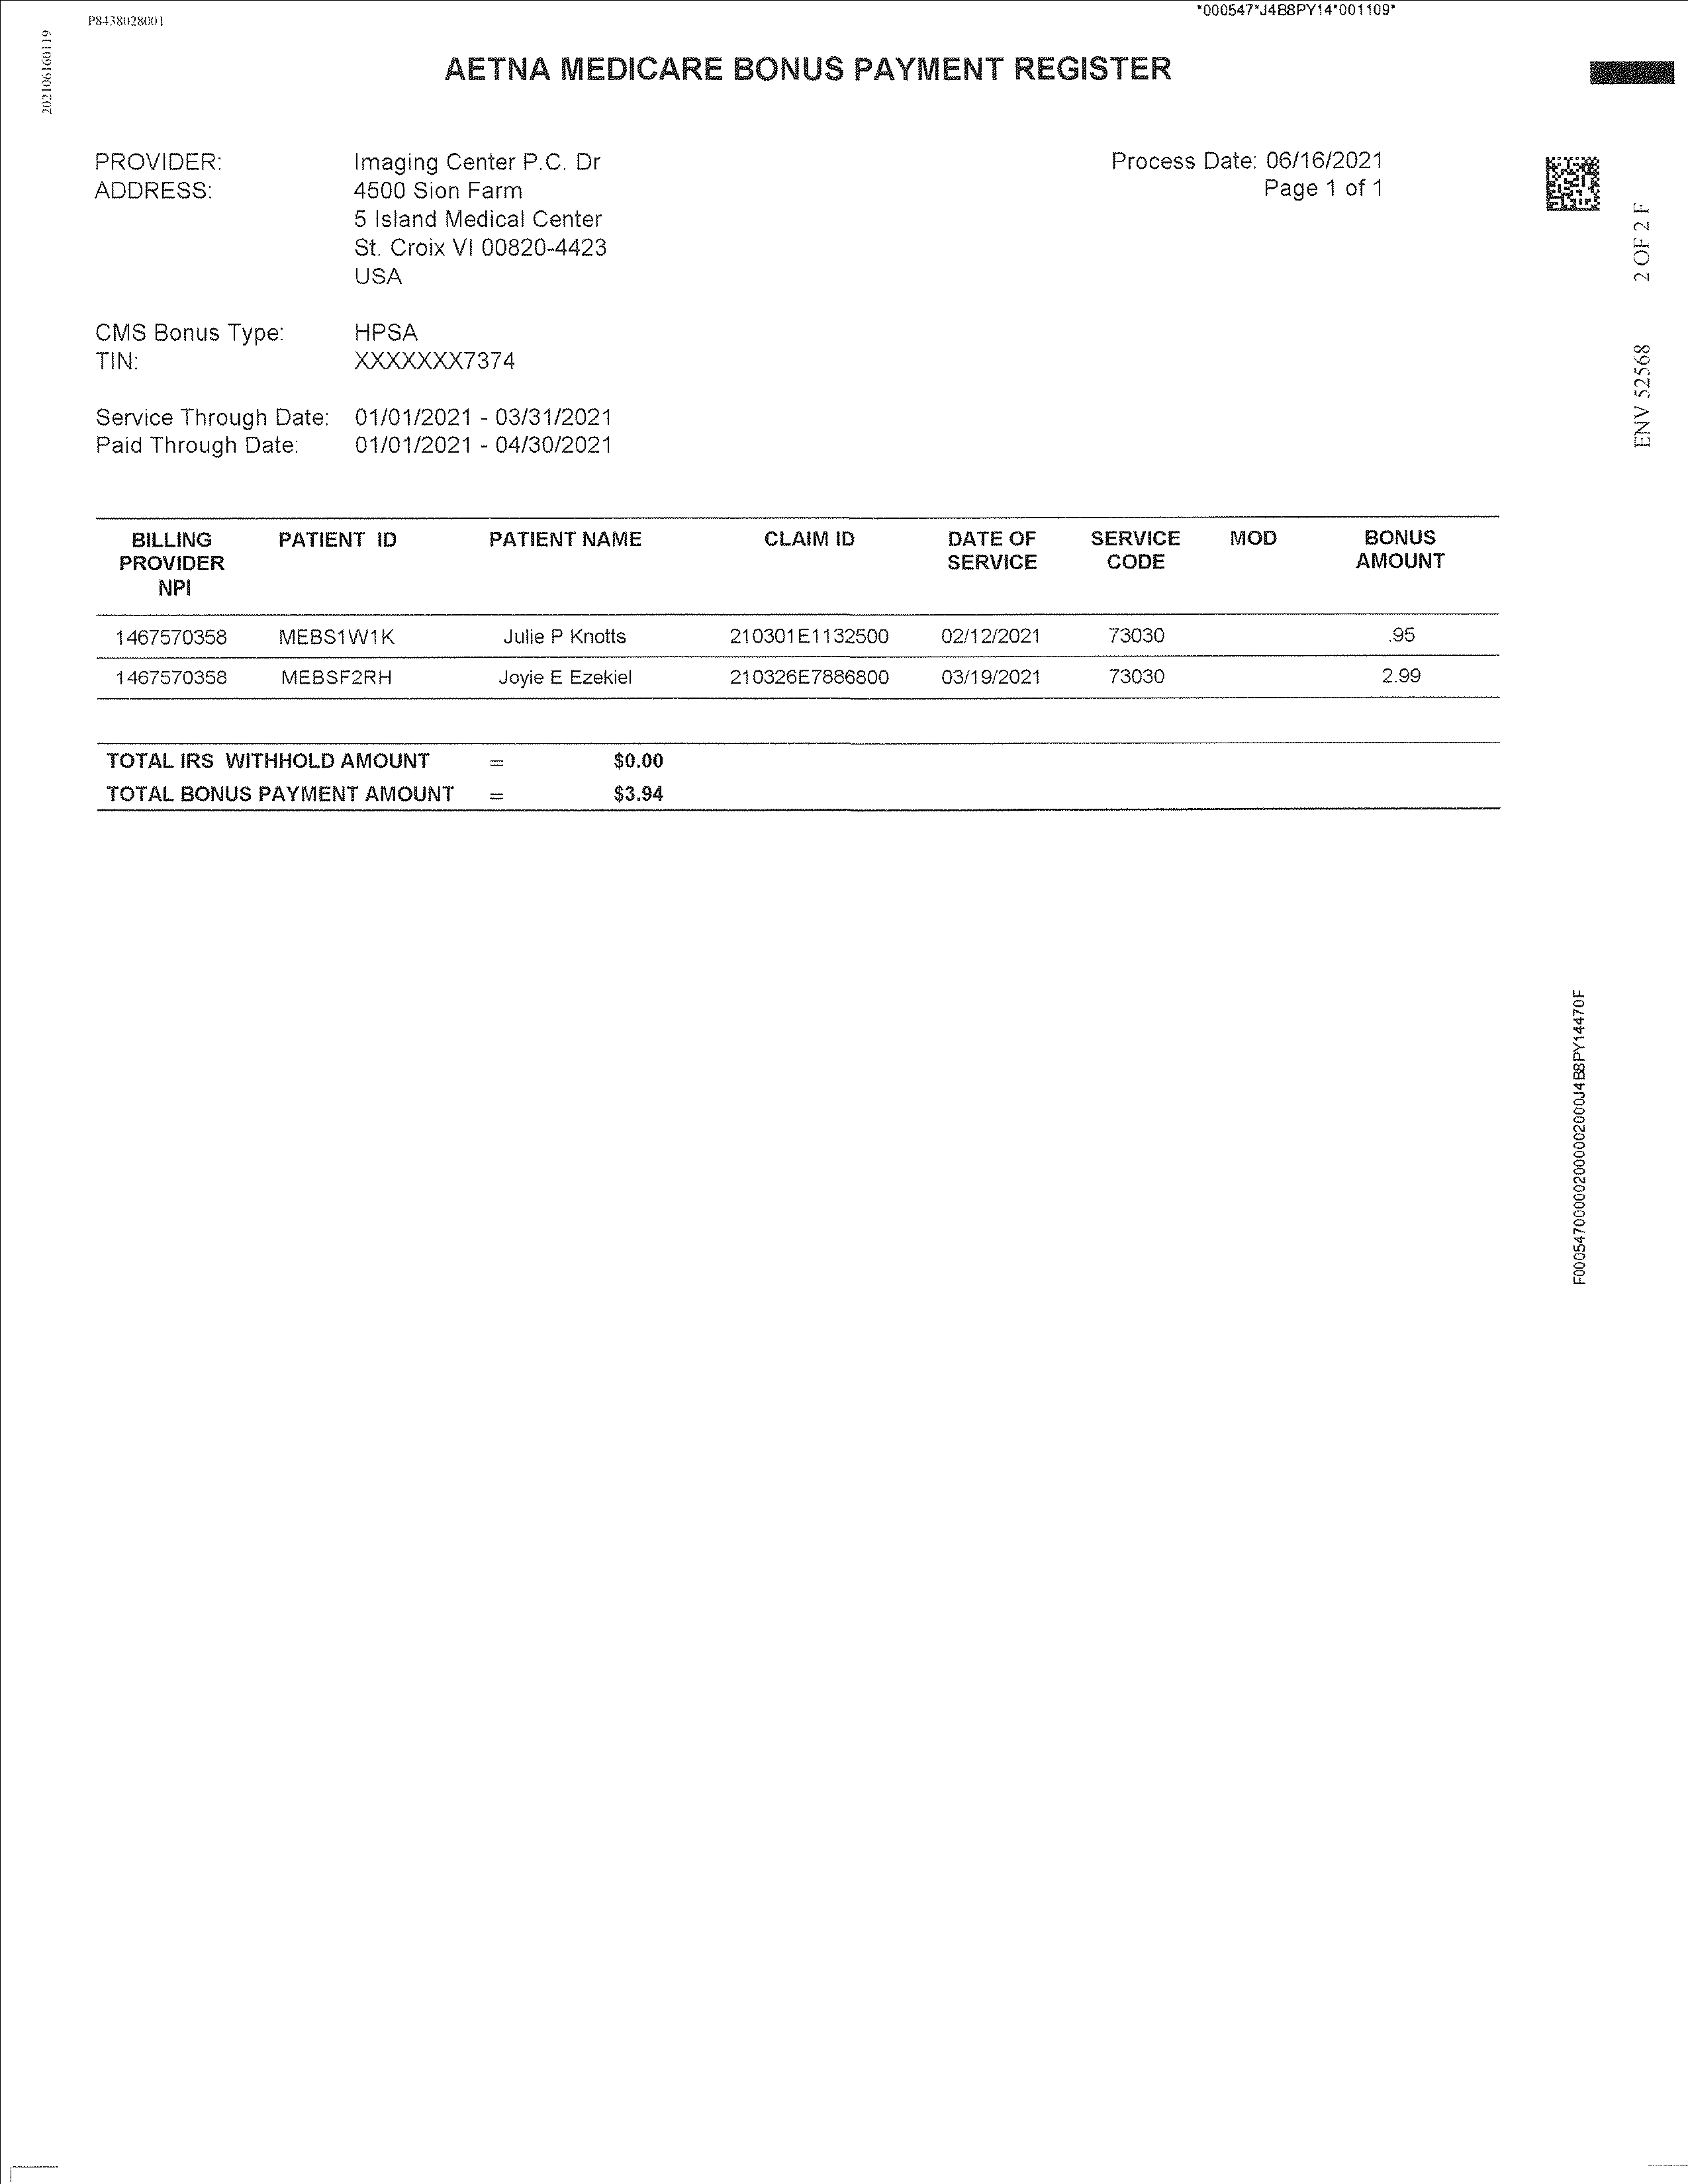data: (90, 138, 624, 310), (94, 324, 628, 473)
table: (74, 503, 1511, 713)
